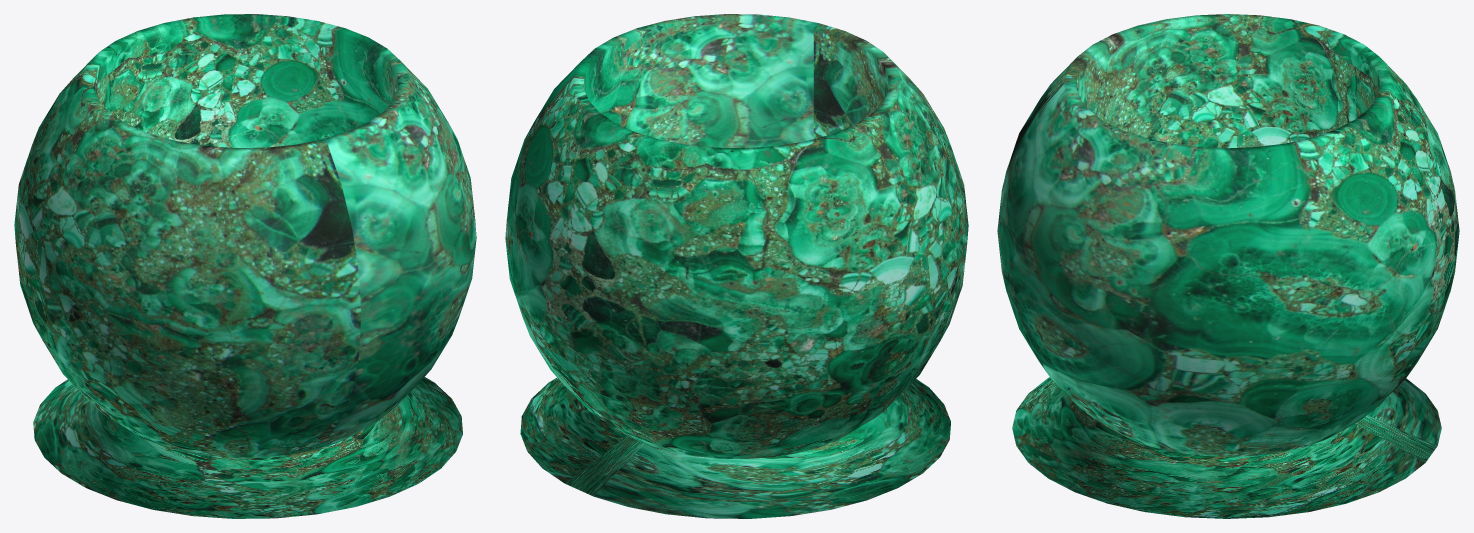
The model's file is lgfb.obj.
3 views of the same model, side by side, from view 1: azimuth 30°, elevation 25°; view 2: azimuth 150°, elevation 25°; view 3: azimuth 270°, elevation 25° (orthographic).
Parts seen in each view (by area): view 1: Sphere.001, Cone; view 2: Sphere.001, Cone; view 3: Sphere.001, Cone.
Boxes of the visible parts, x1,y1,x2,y2 form: Sphere.001: (14,14,476,457); Cone: (33,377,462,518); Sphere.001: (505,14,968,458); Cone: (520,377,950,518); Sphere.001: (997,14,1459,456); Cone: (1012,377,1441,518).
Size of the model in its own units: 9.91 by 8.15 by 9.91.
1 material, 1 textured.
